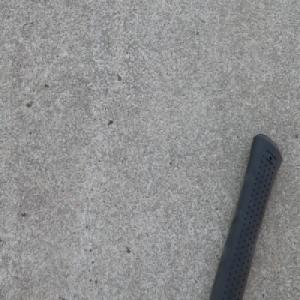Hammer: (206, 130, 284, 300)
